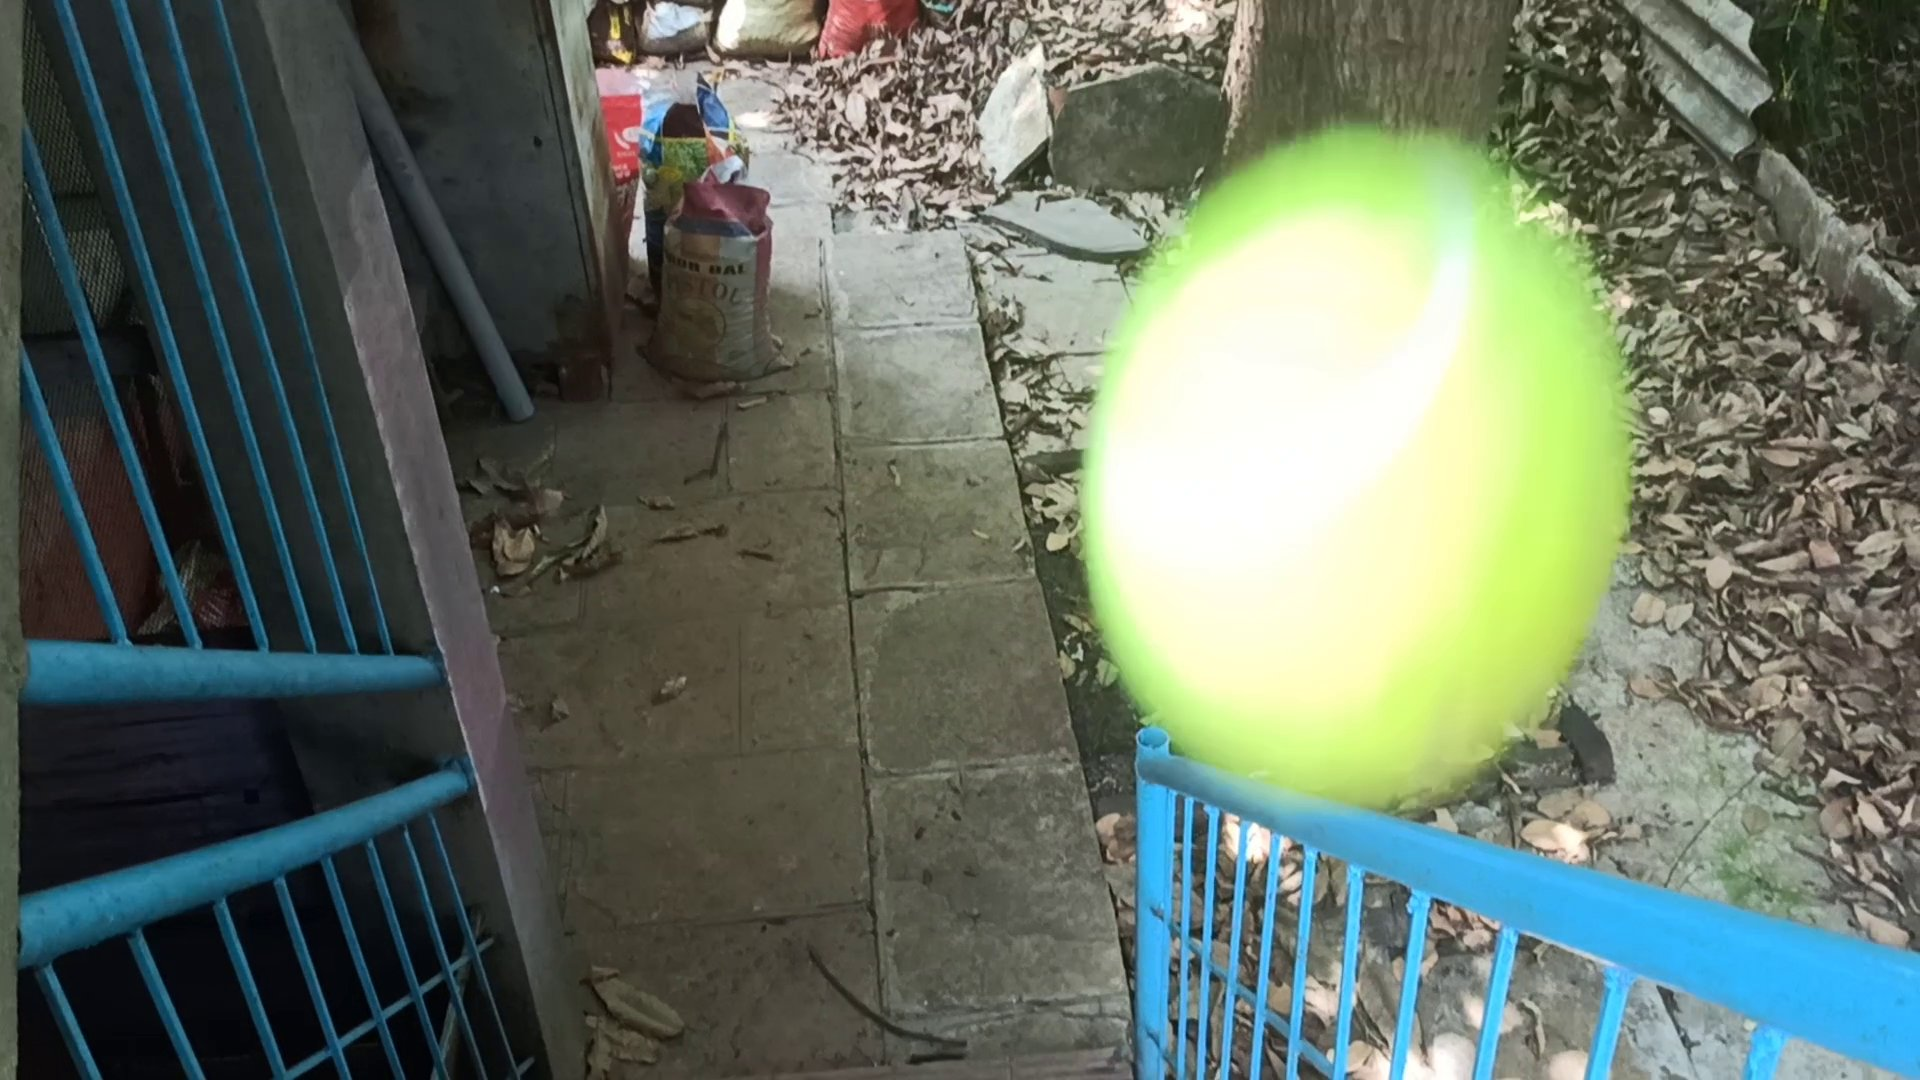Tennis-Ball: (1083, 131, 1626, 804)
